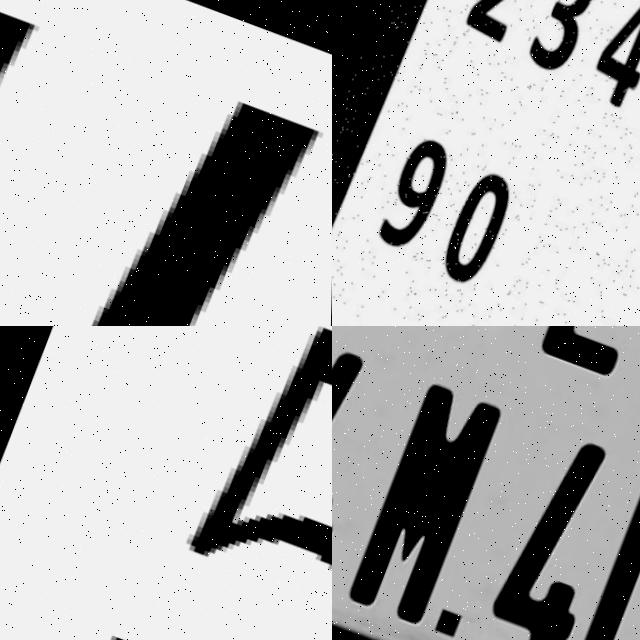0: (410, 136, 548, 303)
2: (441, 0, 566, 55)
3: (496, 0, 631, 89)
4: (472, 428, 640, 640), (332, 336, 398, 584), (562, 0, 640, 123)
5: (40, 326, 332, 640)
9: (342, 101, 487, 275)
L: (565, 461, 640, 640)
M: (346, 376, 508, 625)
U: (0, 0, 330, 326)
